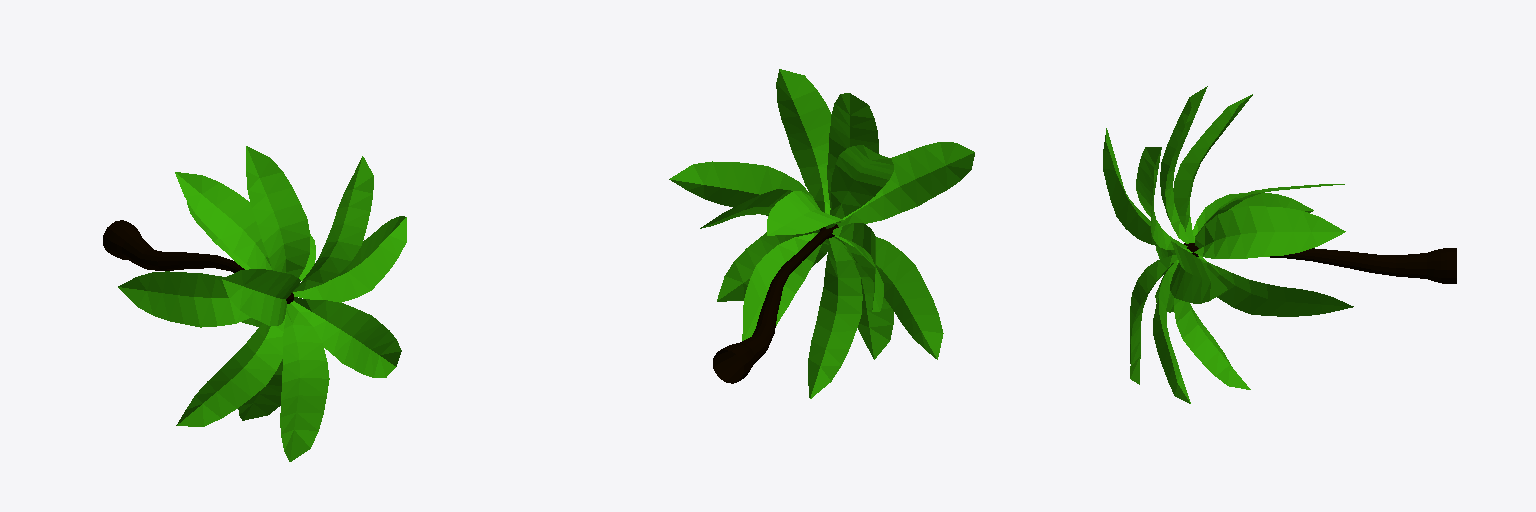
File: weed2.obj
3 views of the same model, side by side, from view 1: azimuth 30°, elevation 25°; view 2: azimuth 150°, elevation 25°; view 3: azimuth 270°, elevation 25° (orthographic).
Parts seen in each view (by area): view 1: pasted__pCylinder2_Untitled.002; view 2: pasted__pCylinder2_Untitled.002; view 3: pasted__pCylinder2_Untitled.002.
Boxes of the visible parts, <box> form: pasted__pCylinder2_Untitled.002: <box>103,146,406,461</box>; pasted__pCylinder2_Untitled.002: <box>669,69,974,398</box>; pasted__pCylinder2_Untitled.002: <box>1103,86,1456,403</box>.
Size of the model in its own units: 13.25 by 14.98 by 16.3.